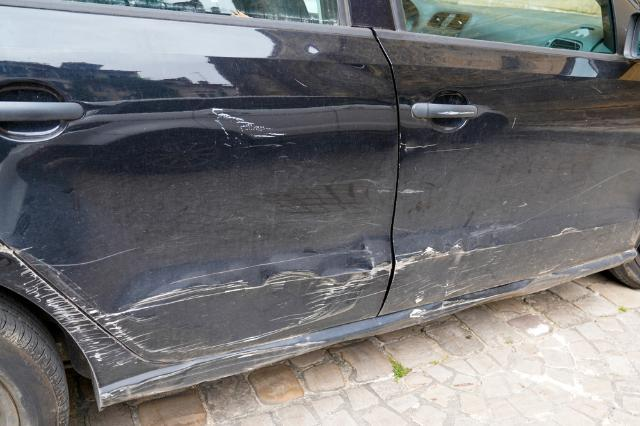dent: (11, 128, 385, 308)
scratch: (0, 241, 391, 357), (394, 224, 602, 310), (0, 241, 139, 364), (101, 341, 325, 407), (210, 107, 293, 156)
